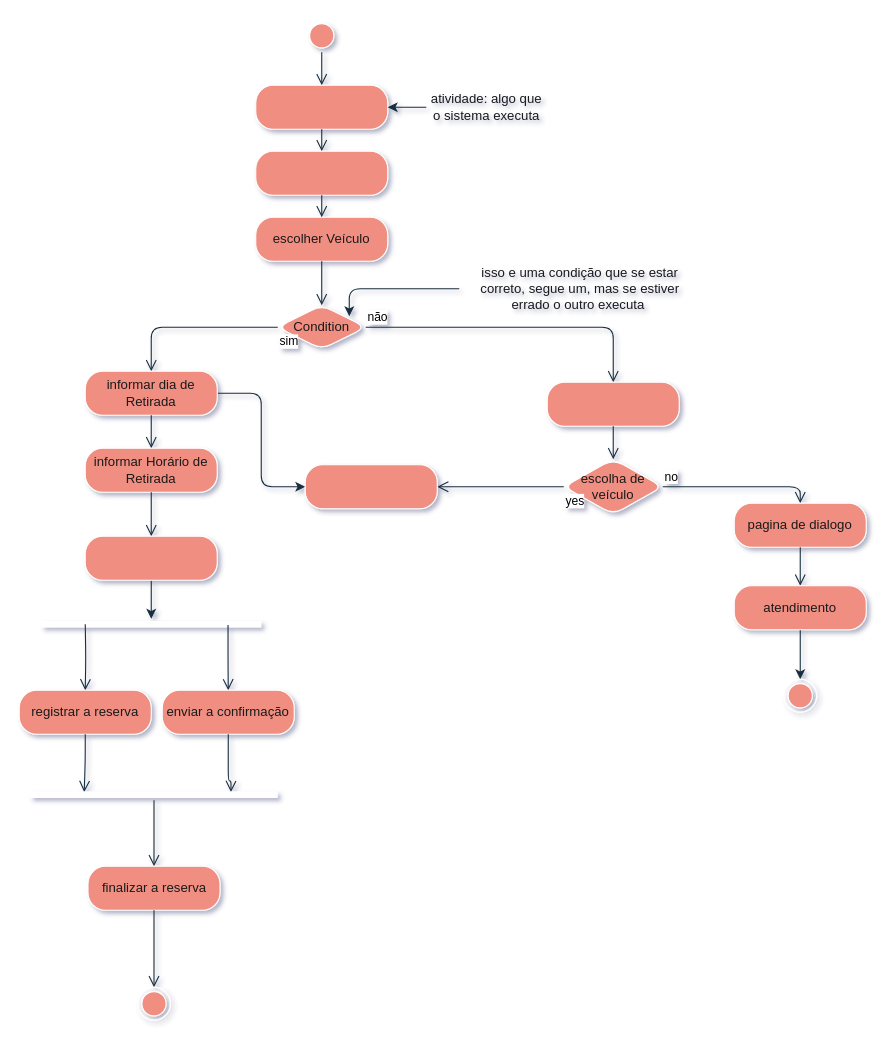
Some shapes in this 892 by 1046 pixel diagram are drawn without their labels. Each missing label, with the centre of its shape:
"consultar veiculo" belongs at pixel 321 172.
"efetuar login" belongs at pixel 321 106.
"escolher forma de pagamento" belongs at pixel 150 557.
"Oferecer Veículo Similar" belongs at pixel 612 403.
"selecionar veículo" belongs at pixel 370 486.
